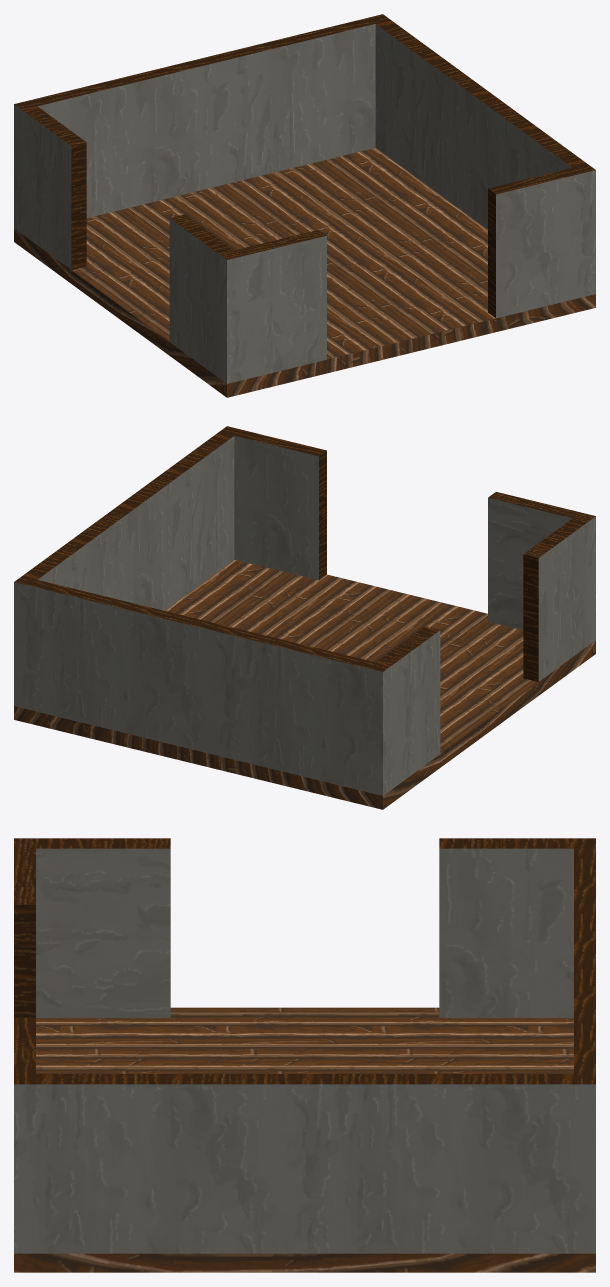
The model's file is room-03.fbx.
3 views of the same model, one above another, from view 1: azimuth 30°, elevation 25°; view 2: azimuth 150°, elevation 25°; view 3: azimuth 270°, elevation 25° (orthographic). The views are drawn at different scales.
Visible parts, largest first — view 1: 03; view 2: 03; view 3: 03.
Boxes of the visible parts, <box> form: 03: <box>14,14,595,397</box>; 03: <box>14,426,595,809</box>; 03: <box>14,838,595,1272</box>.
Bounding box in the file's own units: 600 × 214 × 600.
Materials: 1 (1 with a texture image).
